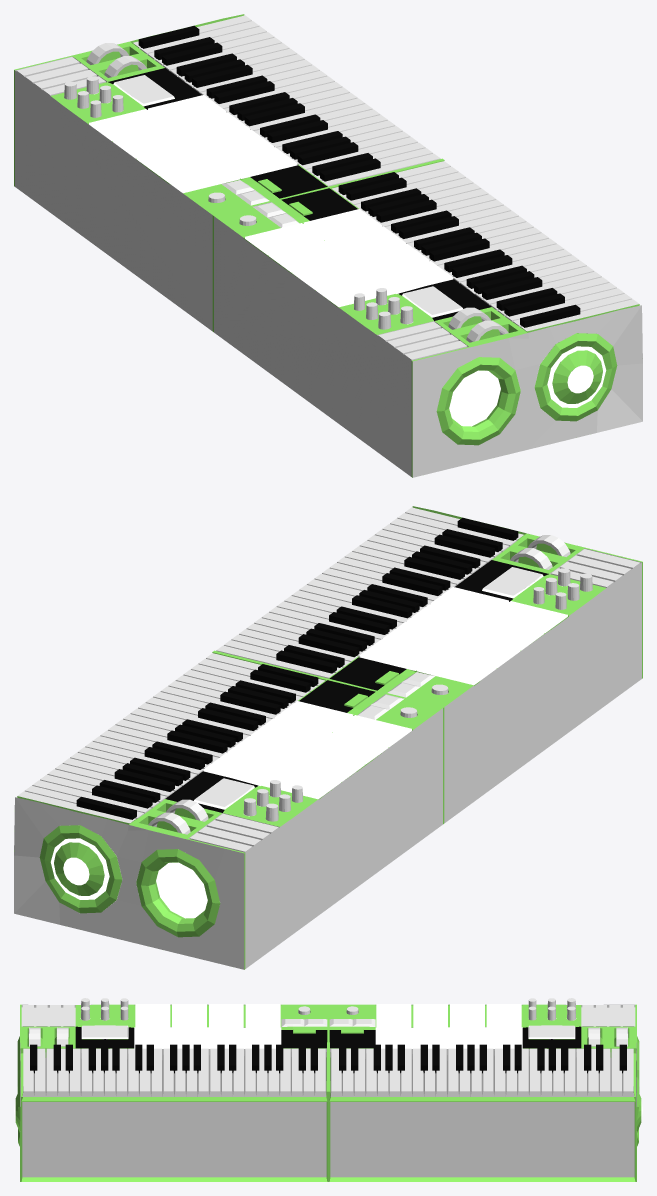
The model's file is 2-lead-synth4.glb.
The picture shows the model from 3 angles, top to bottom: view 1: azimuth 30°, elevation 25°; view 2: azimuth 150°, elevation 25°; view 3: azimuth 270°, elevation 25°; orthographic projection. The views are drawn at different scales.
Visible parts, largest first — view 1: Cube.002; view 2: Cube.002; view 3: Cube.002.
Boxes of the visible parts, bbox=[...] form: Cube.002: bbox=[14, 14, 642, 477]; Cube.002: bbox=[14, 506, 642, 969]; Cube.002: bbox=[14, 998, 642, 1181].
Size of the model in its own units: 1.35 by 0.7239 by 4.12.
